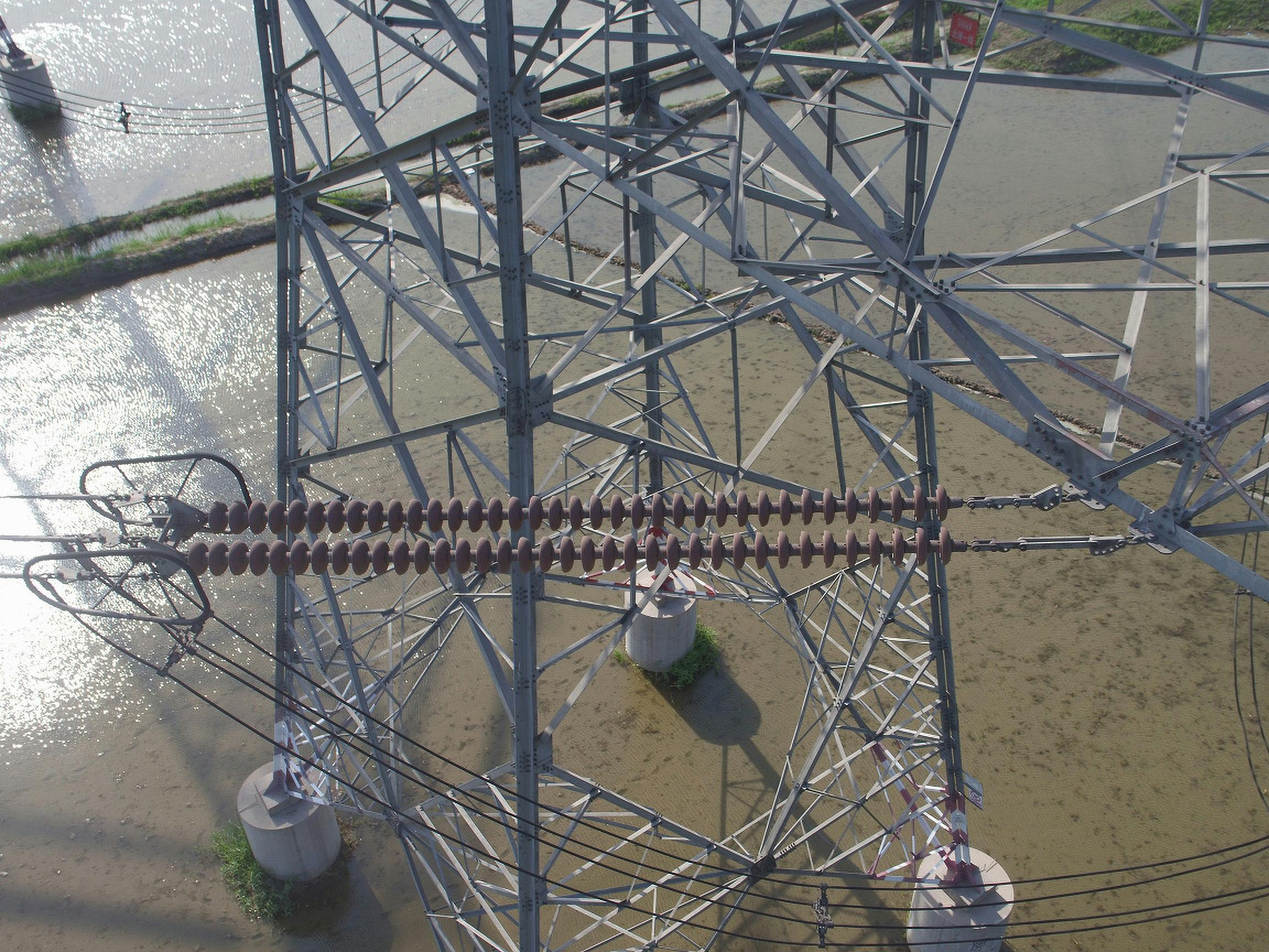insulator: (182, 480, 953, 582)
